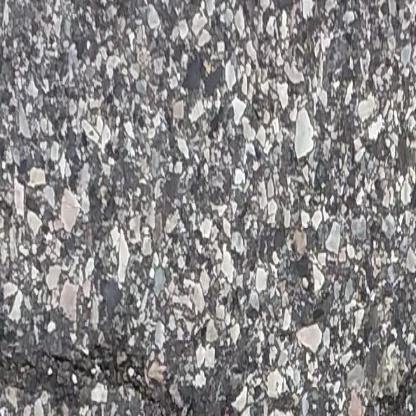Cracks: (0, 339, 237, 416), (351, 329, 416, 416)
